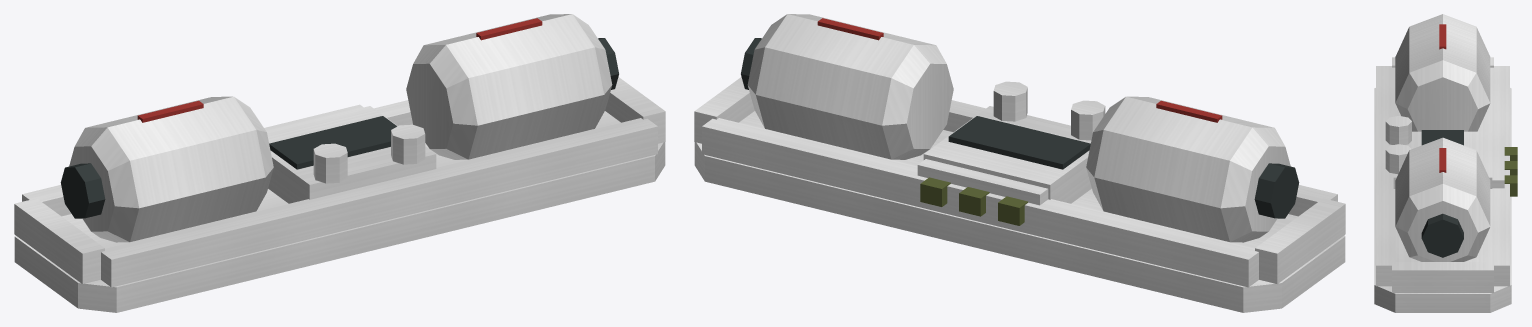
Rendered from basic_recharger.obj.
The picture shows the model from 3 angles, left to right: view 1: azimuth 30°, elevation 25°; view 2: azimuth 150°, elevation 25°; view 3: azimuth 270°, elevation 25°; orthographic projection. The views are drawn at different scales.
Parts seen in each view (by area): view 1: basic_recharger; view 2: basic_recharger; view 3: basic_recharger.
Boxes of the visible parts, box(x1,y1,x2,y2) form: basic_recharger: box(14, 14, 665, 312); basic_recharger: box(694, 14, 1345, 312); basic_recharger: box(1374, 14, 1517, 312).
Bounding box in the file's own units: 2.88 × 0.68 × 0.815.
